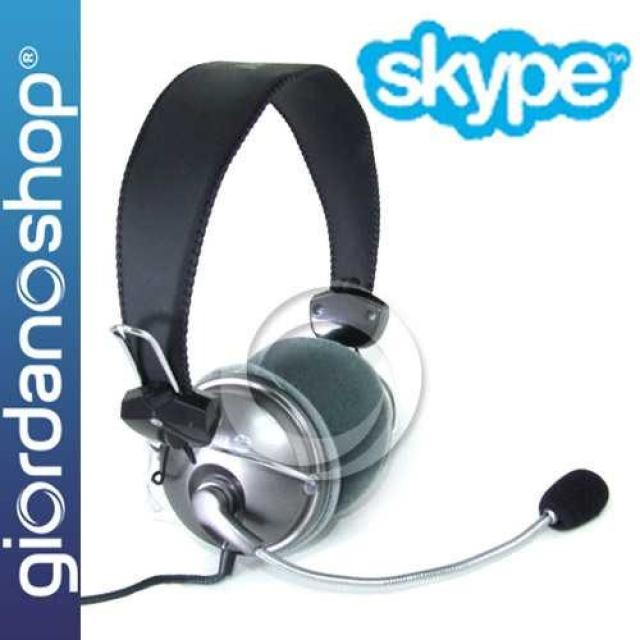microphone: (540, 468, 608, 530)
